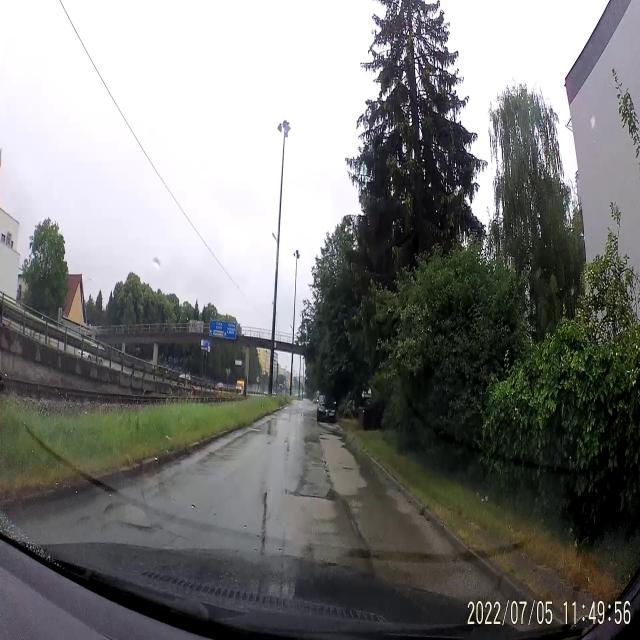Pothole: (282, 479, 340, 509), (340, 462, 354, 475)
